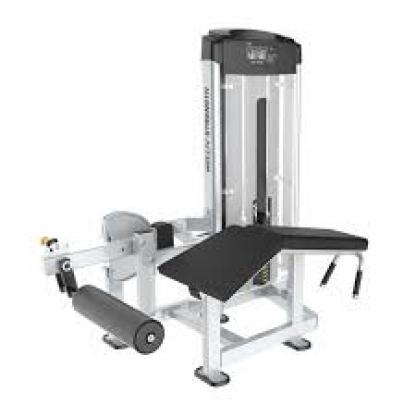reg curl machine: (14, 16, 389, 382)
